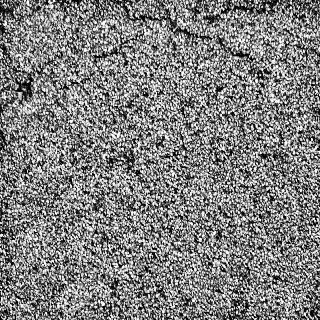crack: (120, 13, 264, 70), (3, 50, 54, 120), (186, 0, 284, 20), (0, 0, 49, 31), (87, 36, 141, 63), (64, 71, 98, 91)
